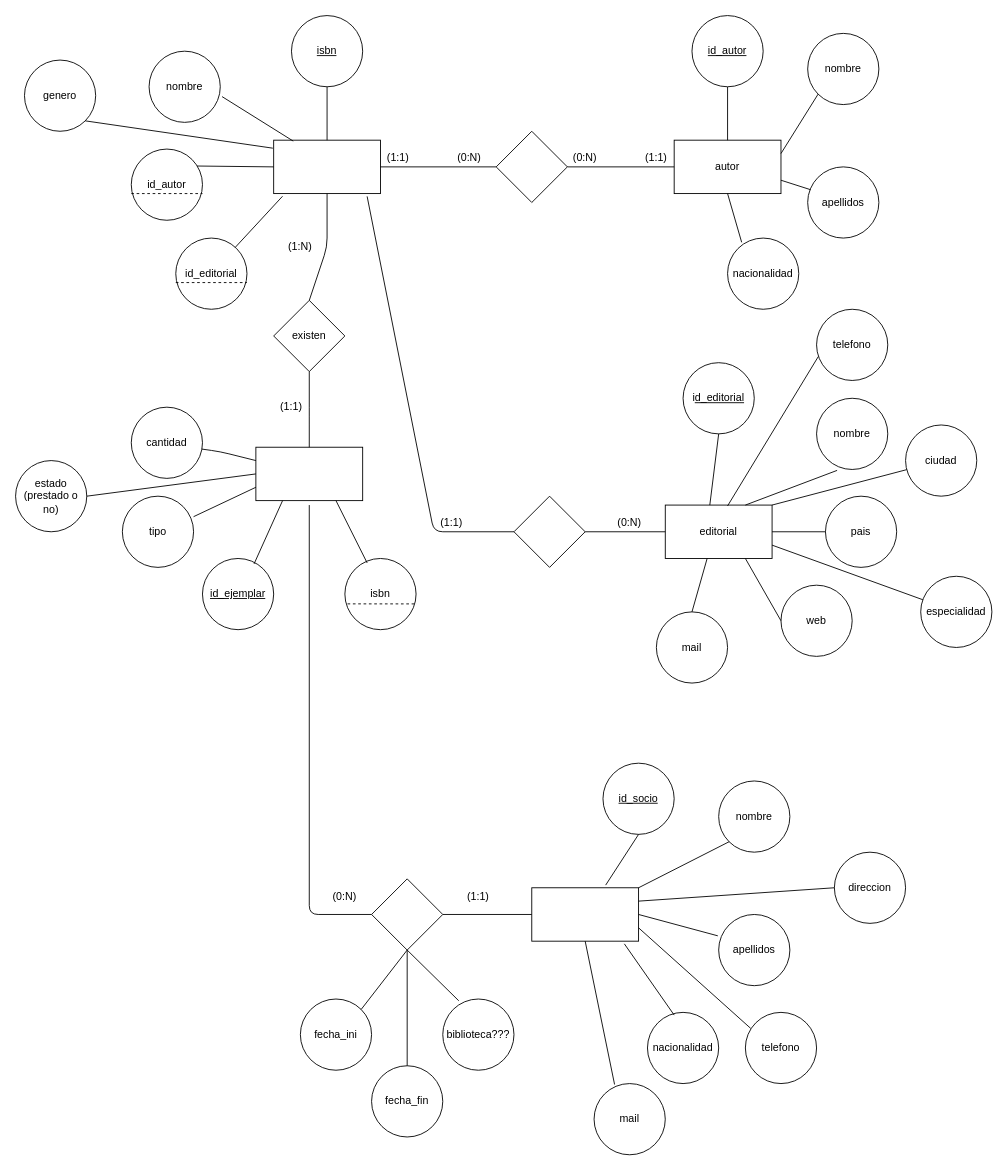
Image size: 1007x1170. Some labels were removed from this diagram. Each missing label, with the box of its shape:
ejemplar: (255, 446, 363, 501)
es prestado a: (371, 878, 443, 950)
escrito por: (495, 130, 567, 202)
libro: (273, 139, 380, 194)
pertenece a: (513, 495, 585, 567)
socio: (531, 887, 639, 941)
